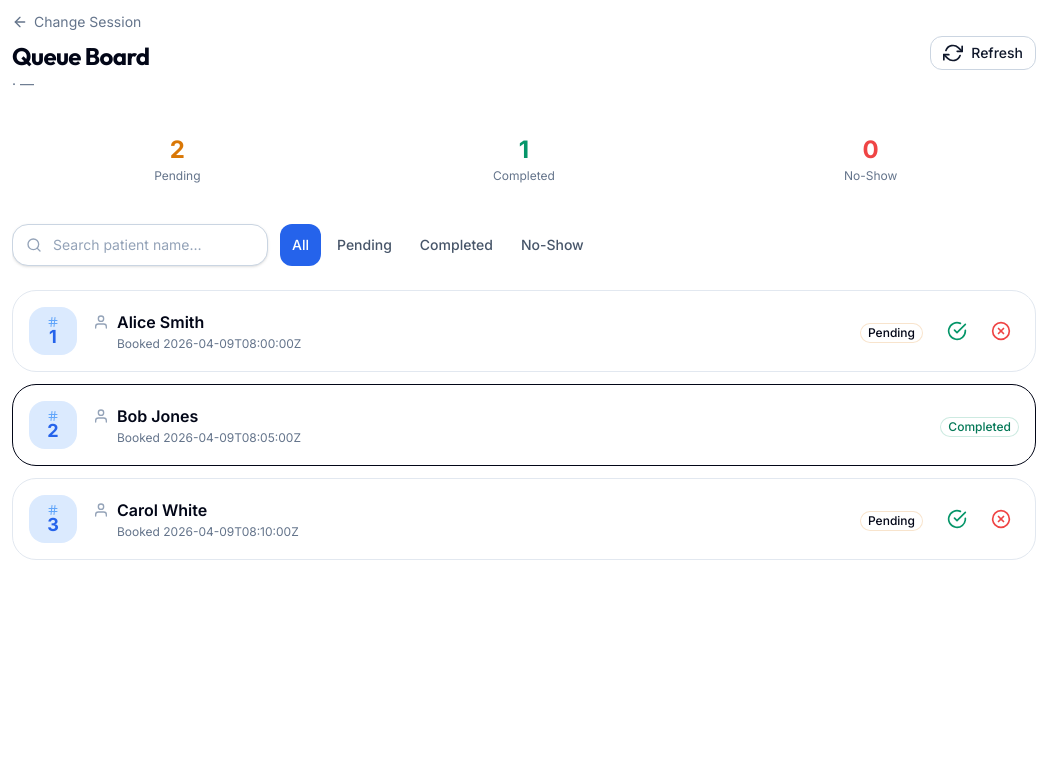
Test case: QueueBoardPage › Queue list (with clinicId param) › filters to only Completed when Completed filter clicked
Expected: the text "Bob Jones" is shown, [117,404,198,428]
Click the button "Completed". click: (456, 245)
box: [408,224,505,266]
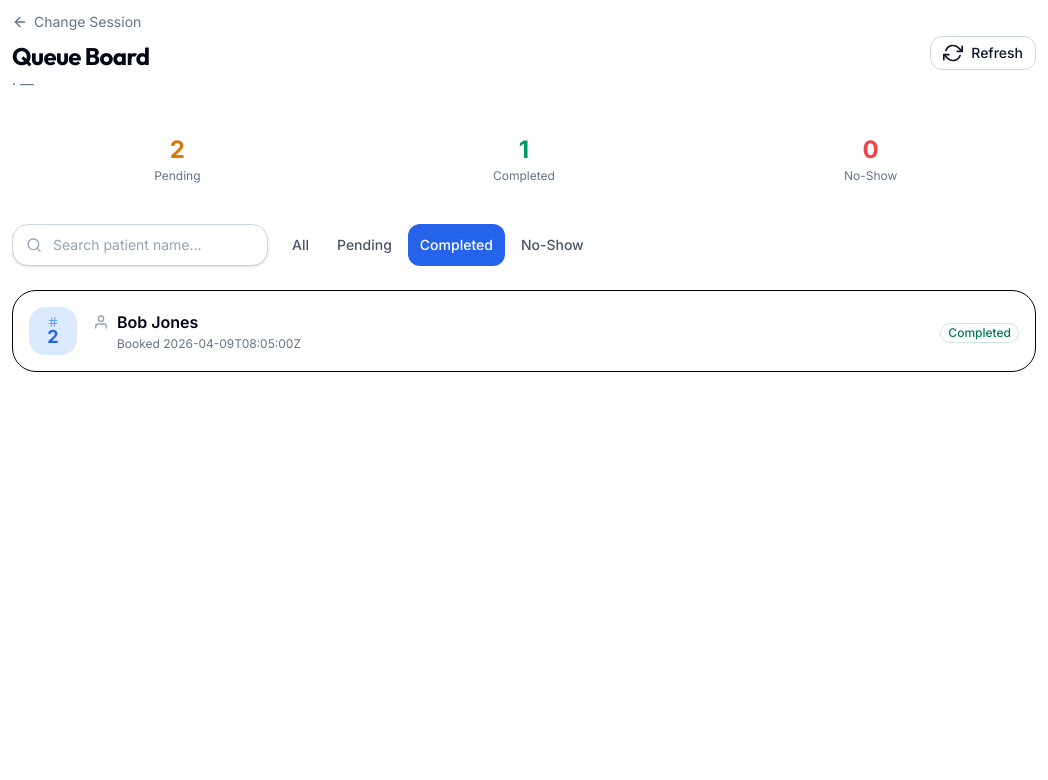
Expected: the text "Bob Jones" is shown, [117,310,198,334]
Expected: the text "Alice Smith" is gone
